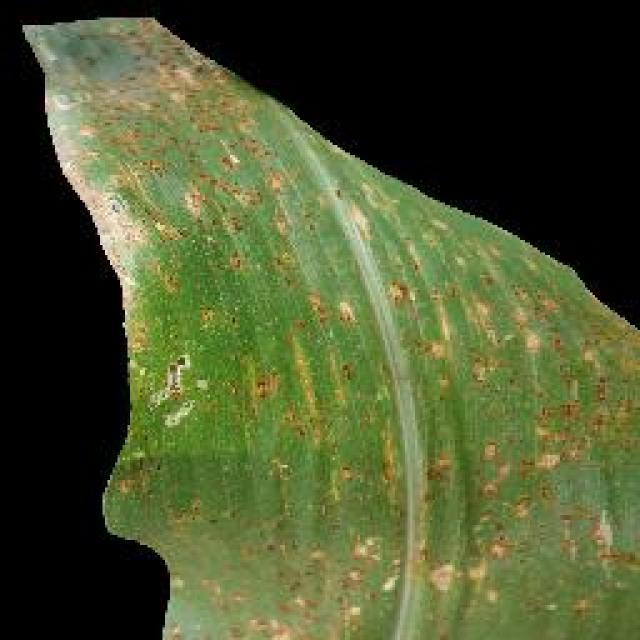Corn Common Rust: (112, 67, 619, 640)
